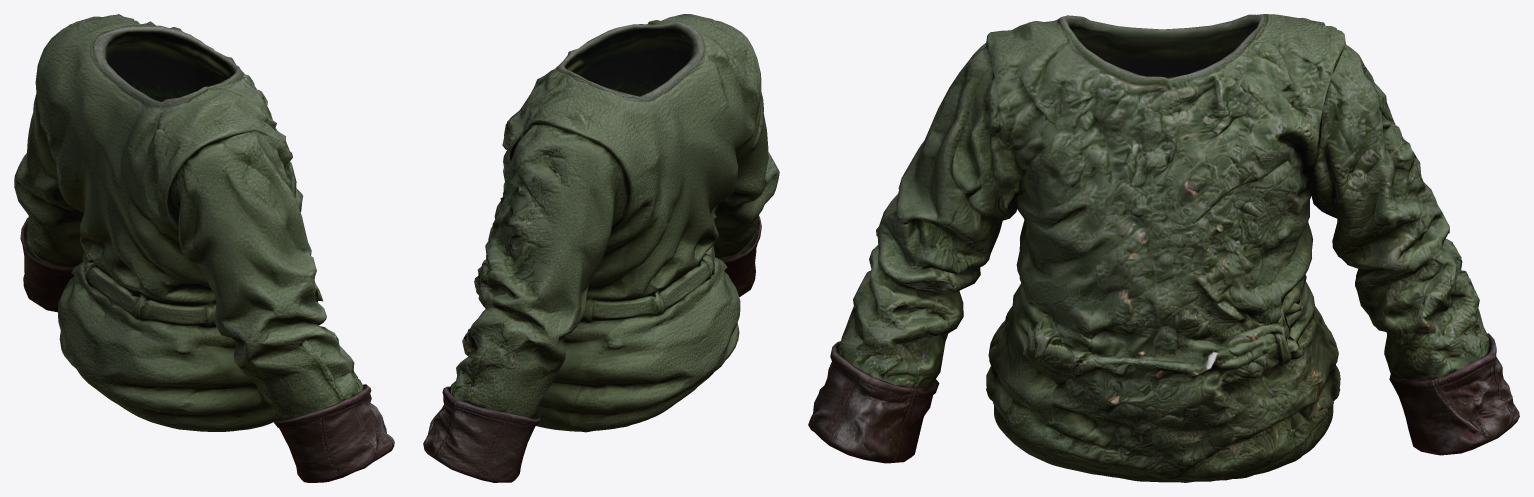
3 renders of one model, left to right at view 1: azimuth 30°, elevation 25°; view 2: azimuth 150°, elevation 25°; view 3: azimuth 270°, elevation 25°, orthographic. The views are drawn at different scales.
Visible parts, largest first — view 1: tripo_node_b5373c3e-eaa2-45bb-8790-9b61e794eac3; view 2: tripo_node_b5373c3e-eaa2-45bb-8790-9b61e794eac3; view 3: tripo_node_b5373c3e-eaa2-45bb-8790-9b61e794eac3.
Part boxes in pixels (x1,y1,x2,y2): tripo_node_b5373c3e-eaa2-45bb-8790-9b61e794eac3: [14, 14, 394, 482]; tripo_node_b5373c3e-eaa2-45bb-8790-9b61e794eac3: [423, 14, 779, 482]; tripo_node_b5373c3e-eaa2-45bb-8790-9b61e794eac3: [808, 14, 1519, 482].
Size of the model in its own units: 0.4065 by 0.6378 by 1.
Materials: 1 (1 with a texture image).
